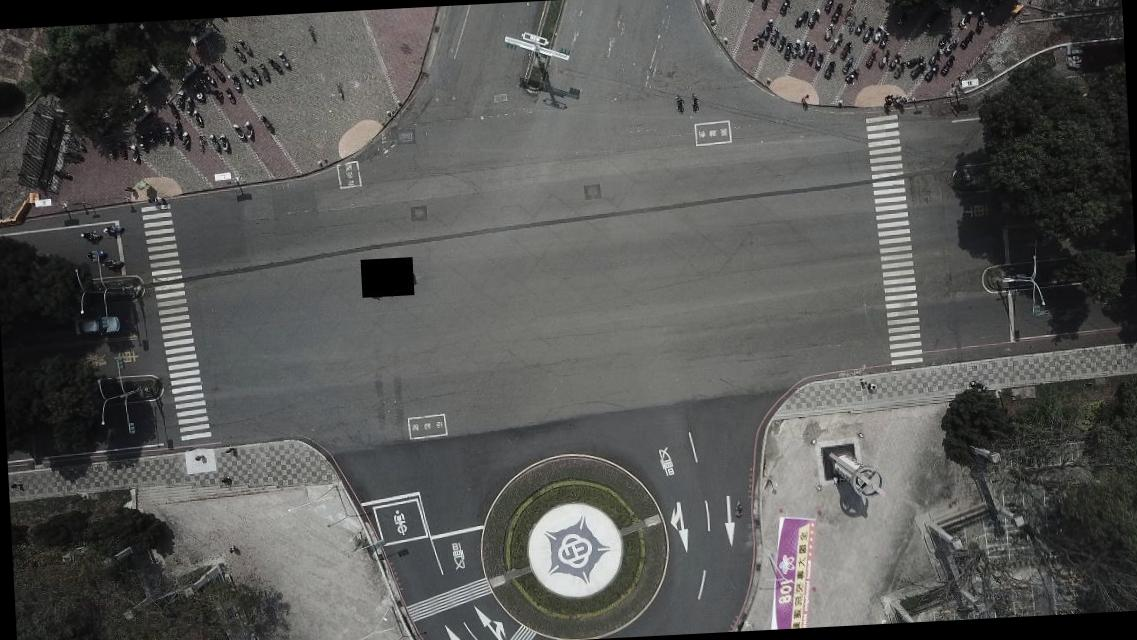vehicle: (74, 314, 120, 336)
